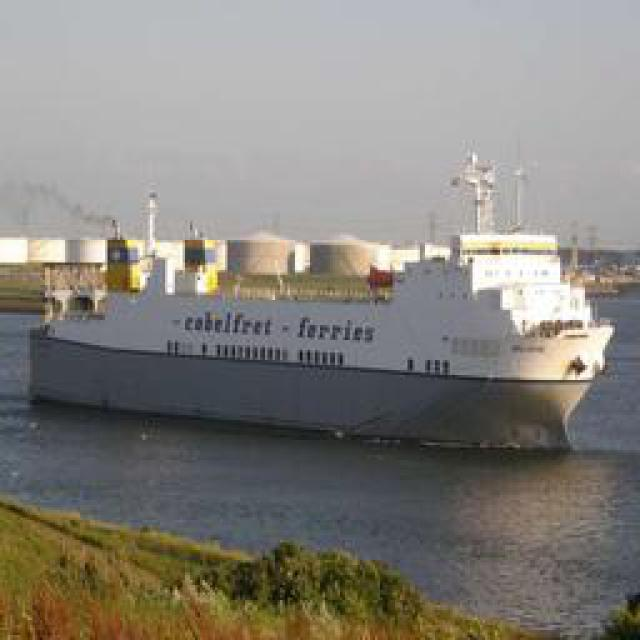Ship: (21, 161, 614, 444)
